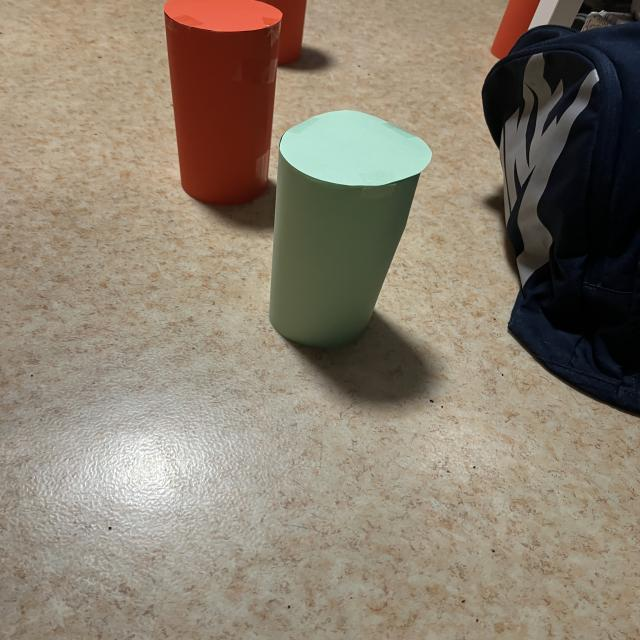meta: (269, 110, 431, 347)
przeszkoda: (164, 0, 281, 205)
